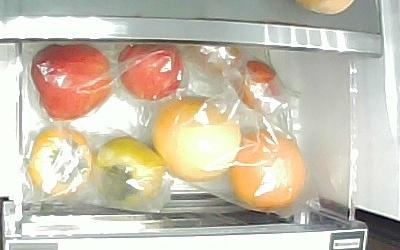apple_vinyl: (31, 44, 113, 120), (117, 45, 184, 101)
grapefruit_vinyl: (153, 95, 242, 183), (229, 129, 306, 209)
persimmon_vinyl: (94, 136, 163, 210), (30, 127, 92, 198)
prune_vinyl: (237, 62, 280, 109)
